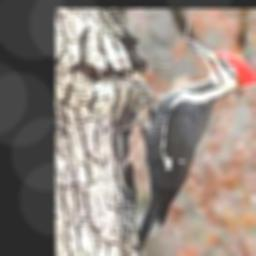Woodpecker: (136, 38, 256, 256)
